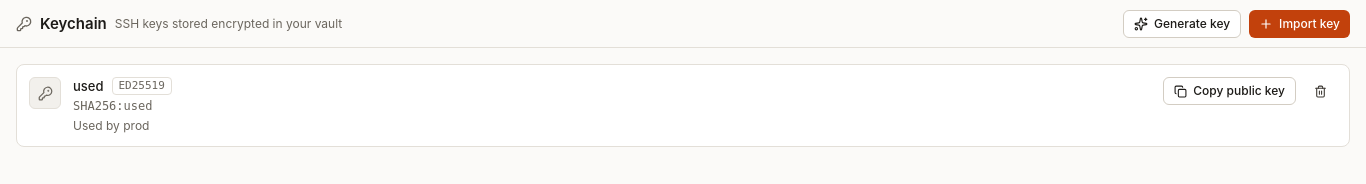
Scenario: KeychainView › shows why a key in use cannot be deleted
Click the button named "Delete used" at {"x": 1320, "y": 91}, box [1304, 77, 1337, 105]
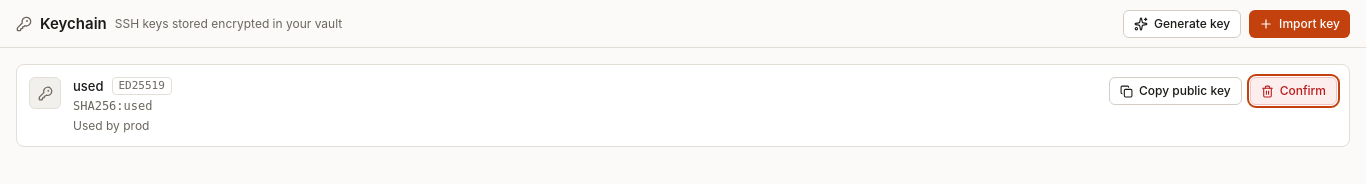
Click the button with aria-label "Delete used" at {"x": 1293, "y": 91}, box [1250, 77, 1337, 105]
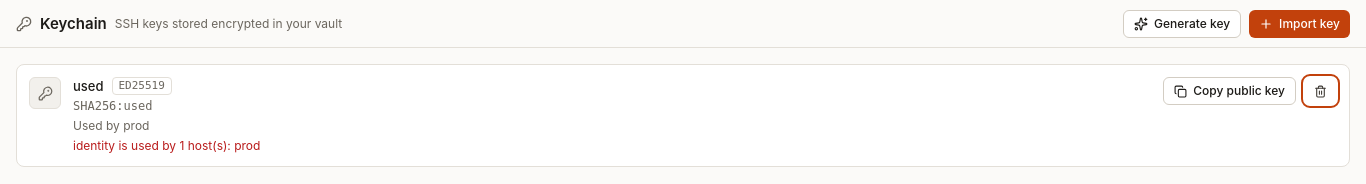
Check: the list item "used" is shown, box [16, 64, 1350, 167]
Check: the message shows "used by 1 host(s): prod", box [73, 138, 260, 153]
